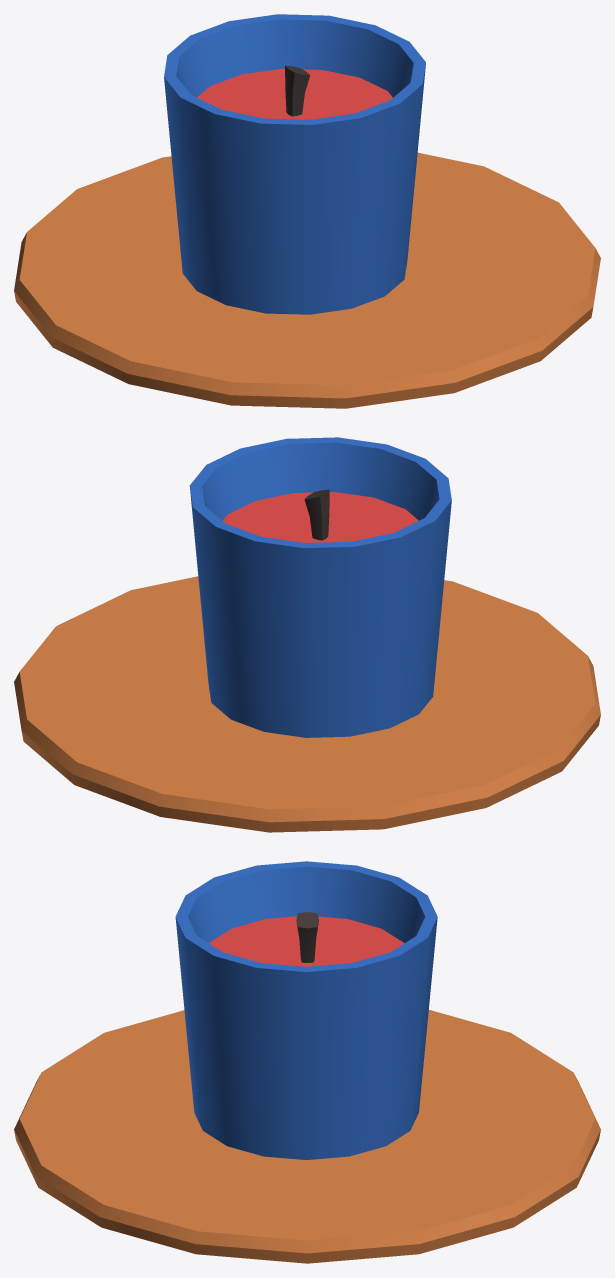
The model's file is Candle.fbx.
3 views of the same model, one above another, from view 1: azimuth 30°, elevation 25°; view 2: azimuth 150°, elevation 25°; view 3: azimuth 270°, elevation 25° (orthographic).
Parts seen in each view (by area): view 1: Cylinder.003; view 2: Cylinder.003; view 3: Cylinder.003.
Part boxes in pixels (bbox=[...]): Cylinder.003: bbox=[14, 14, 600, 408]; Cylinder.003: bbox=[14, 437, 600, 832]; Cylinder.003: bbox=[14, 861, 600, 1263].
Bounding box in the file's own units: 41.08 × 16.94 × 41.08.
